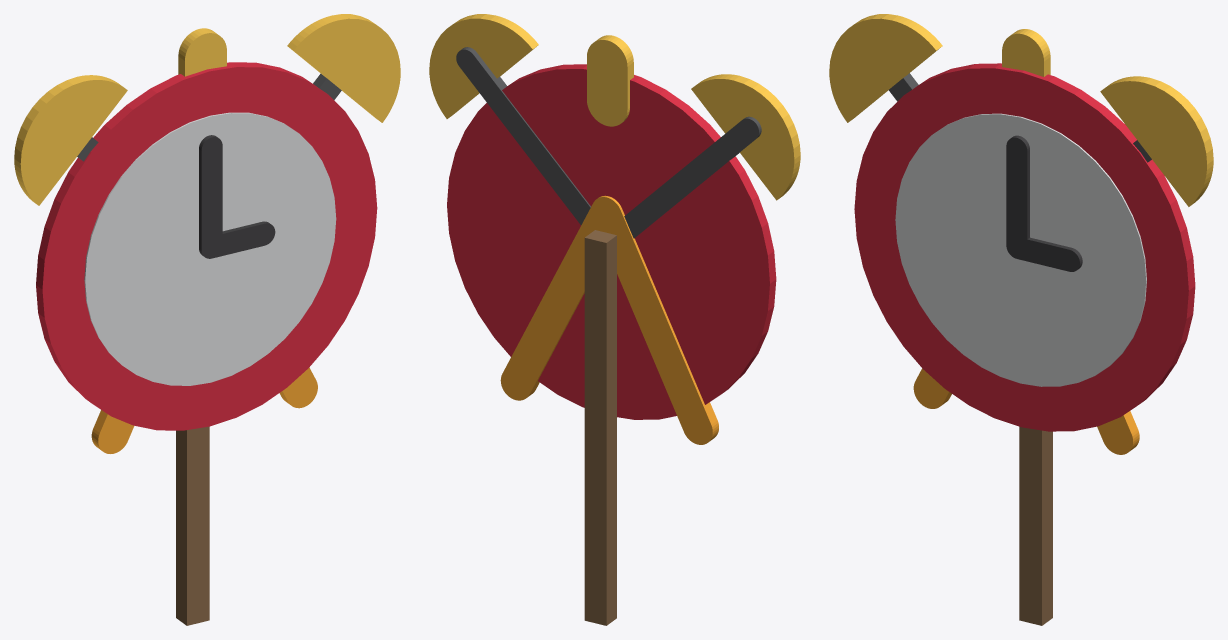
The model's file is reveil.glb.
3 renders of one model, left to right at view 1: azimuth 30°, elevation 25°; view 2: azimuth 150°, elevation 25°; view 3: azimuth 330°, elevation 25°, orthographic. The views are drawn at different scales.
Bounding box in the file's own units: 1 × 1.5 × 0.113.
